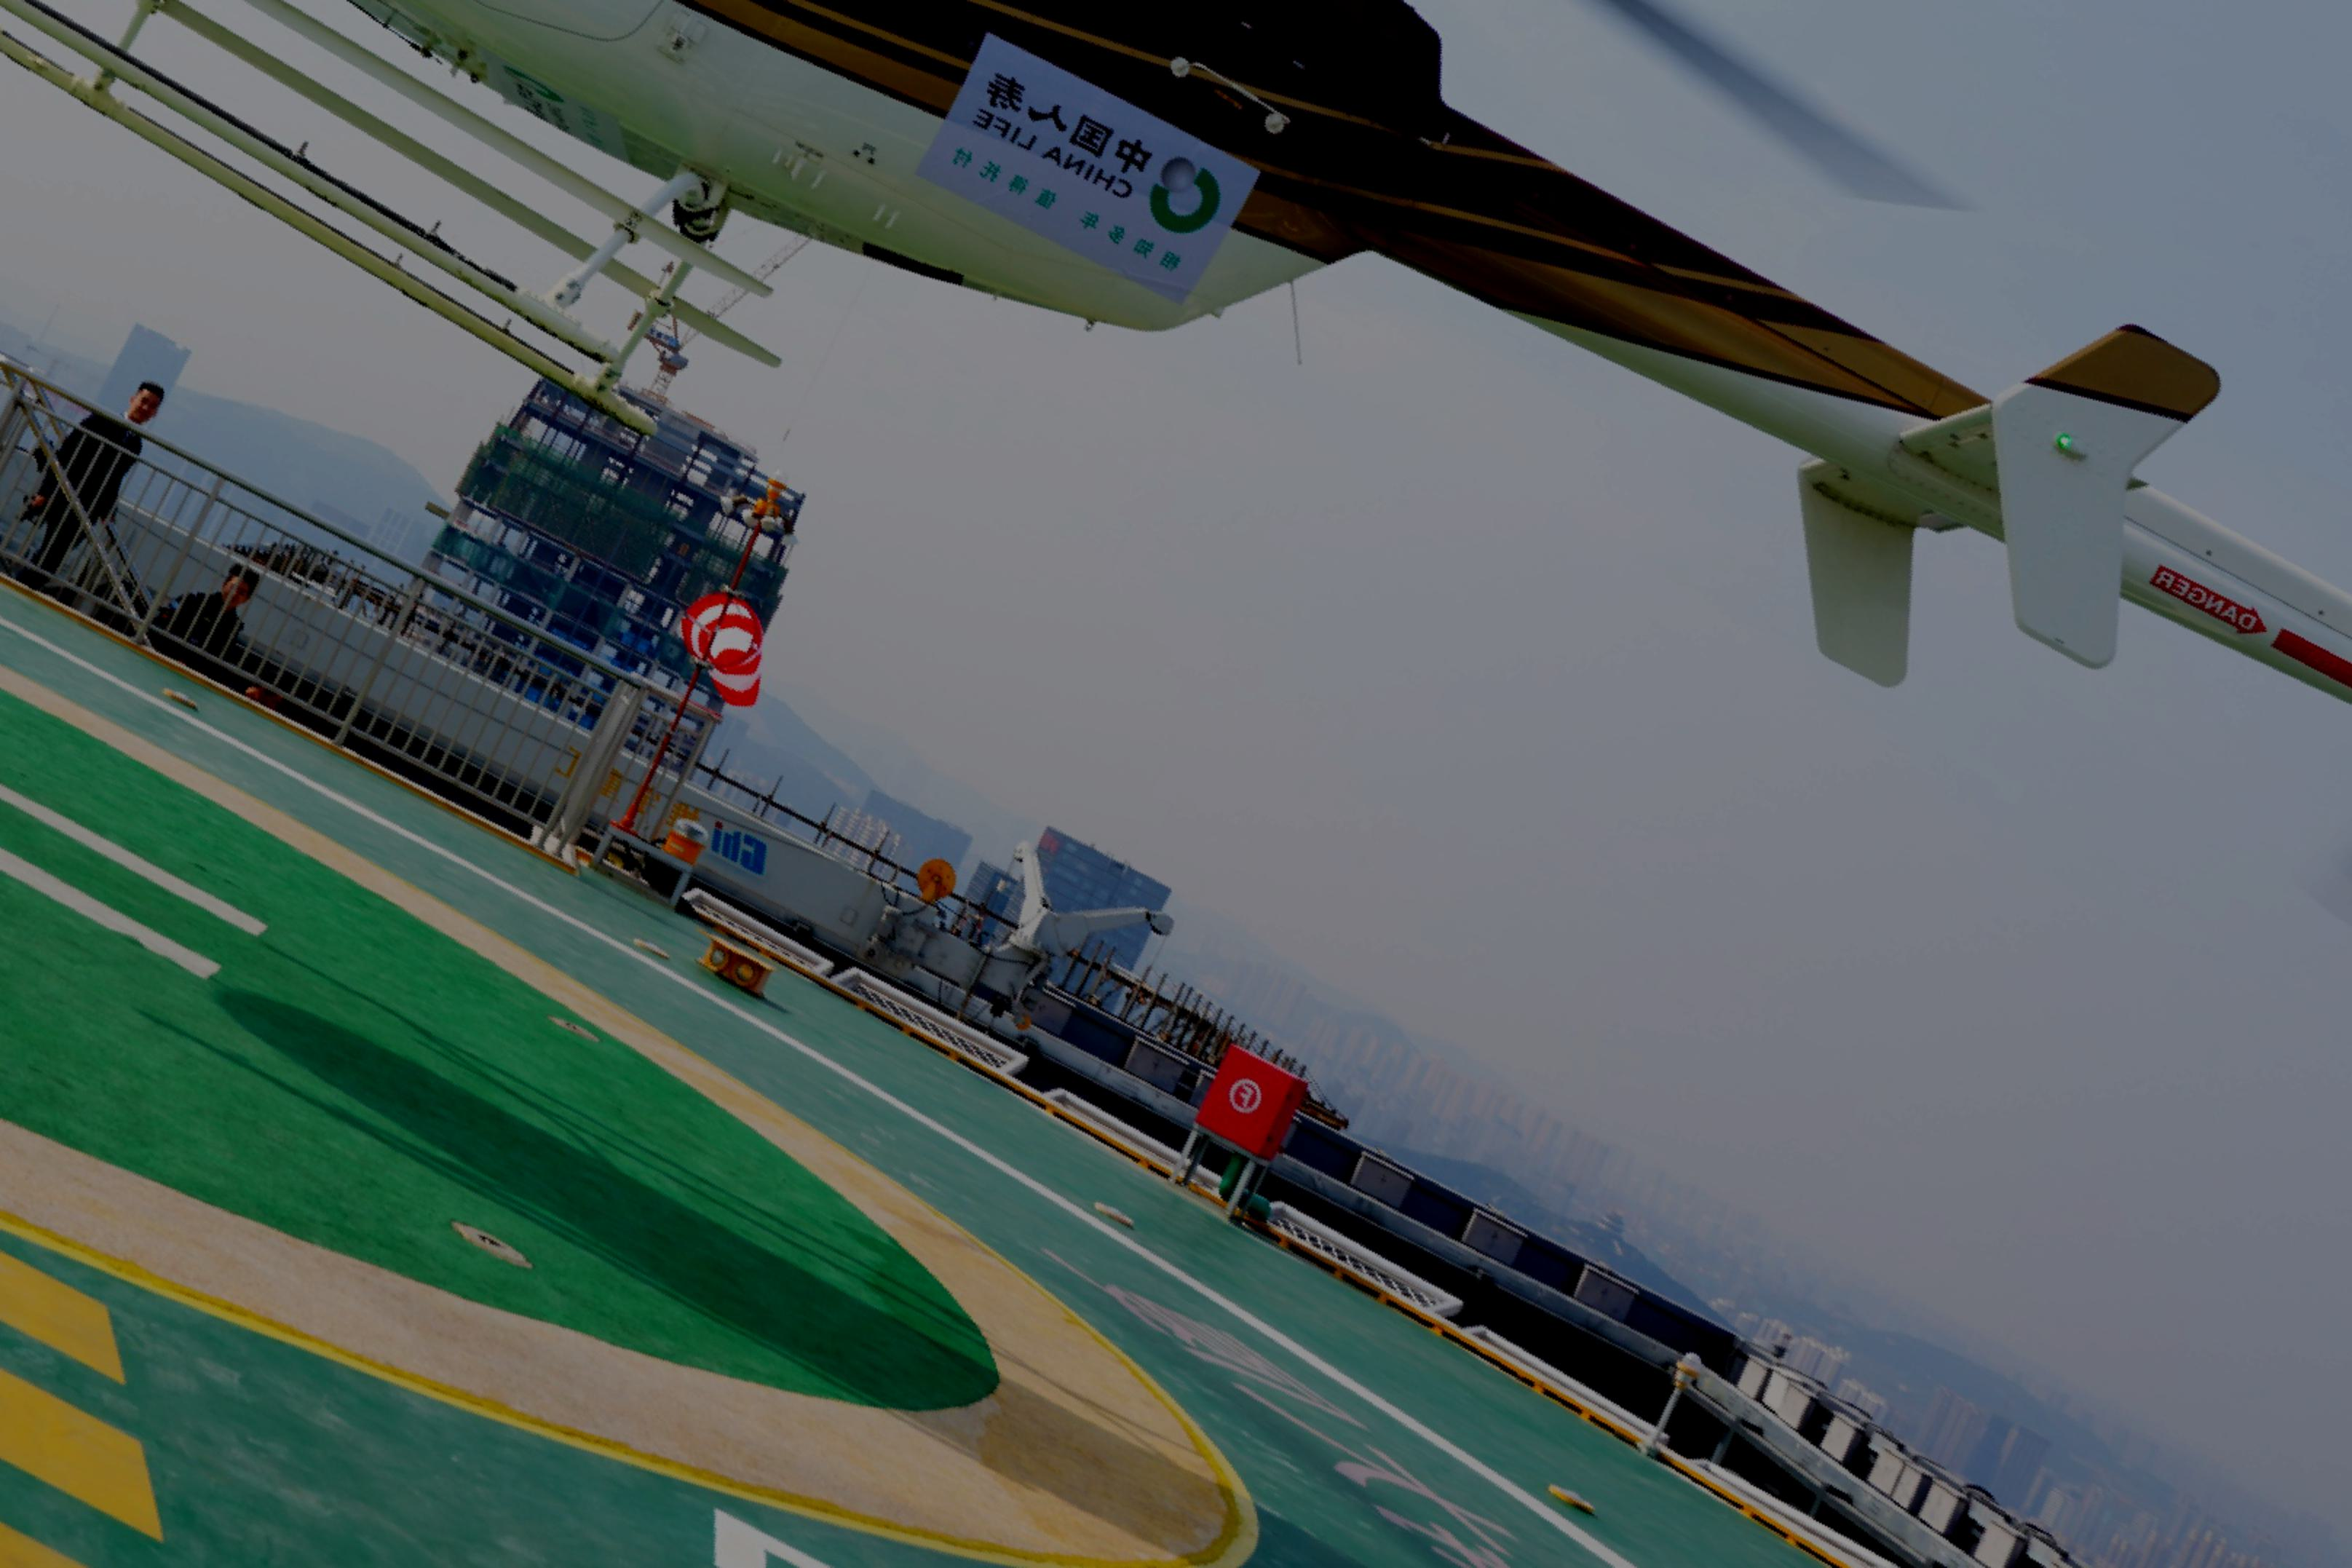Apron: (0, 476, 1292, 1561)
